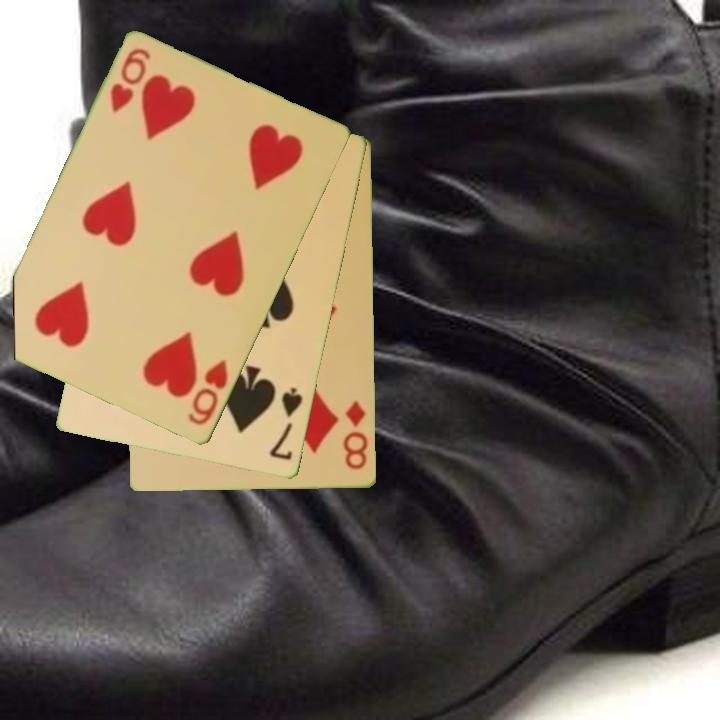6h: (184, 356, 231, 429), (107, 45, 154, 117)
7s: (266, 384, 306, 464)
8d: (340, 398, 371, 473)
